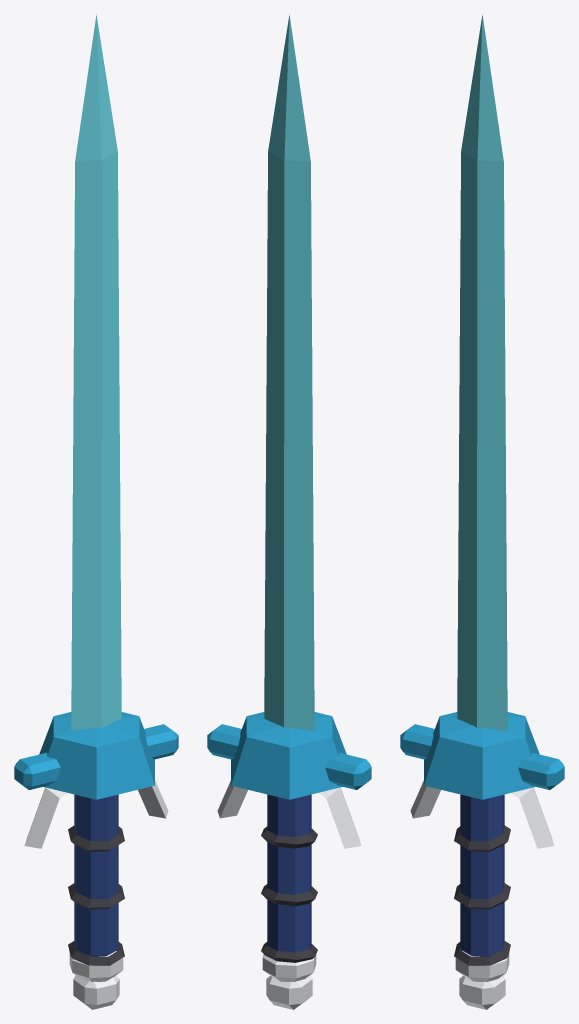
File: DiamondRapier.fbx
The picture shows the model from 3 angles, left to right: view 1: azimuth 30°, elevation 25°; view 2: azimuth 150°, elevation 25°; view 3: azimuth 330°, elevation 25°; orthographic projection.
Visible parts, largest first — view 1: DiamondRapier; view 2: DiamondRapier; view 3: DiamondRapier.
Part boxes in pixels (<box>): DiamondRapier: <box>14,14,178,1009</box>; DiamondRapier: <box>207,14,371,1009</box>; DiamondRapier: <box>400,14,564,1009</box>.
Bounding box in the file's own units: 0.8 × 4.86 × 0.5196.
1 material, 1 textured.
